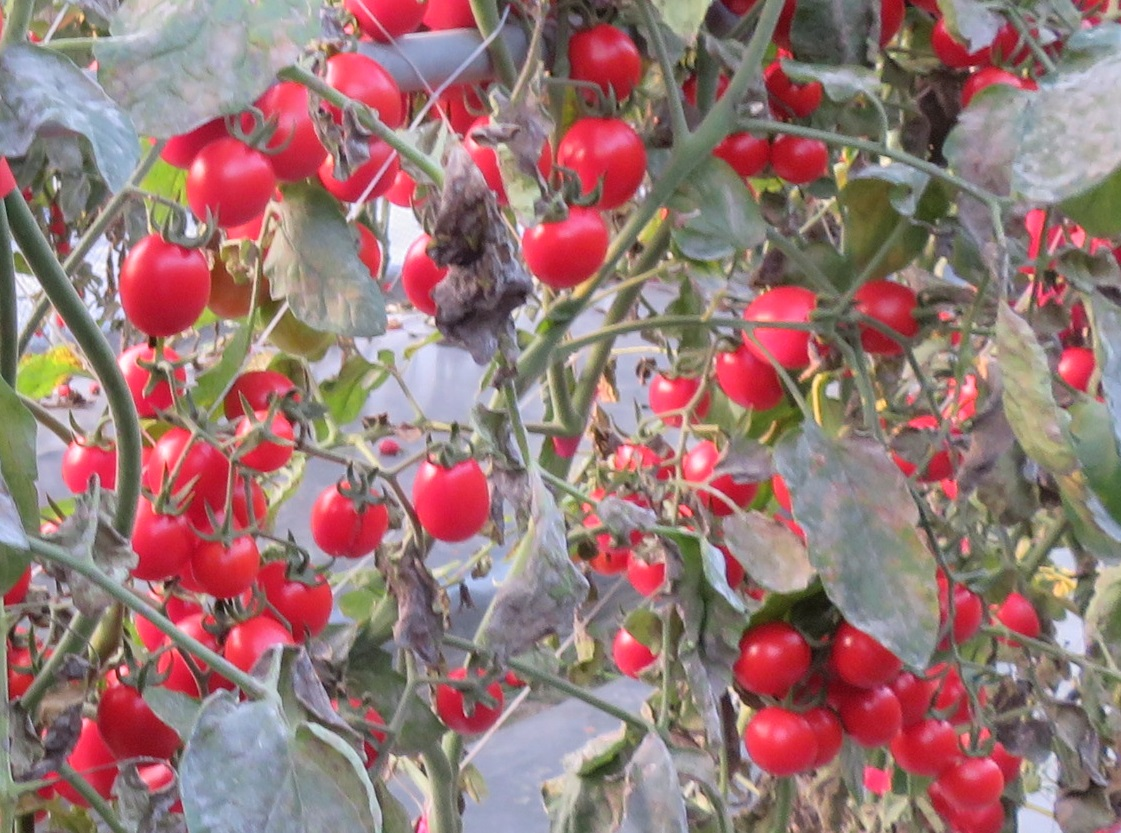red: (112, 236, 212, 342), (554, 118, 648, 205), (516, 202, 610, 287), (245, 559, 343, 640), (142, 427, 234, 513), (255, 88, 340, 180), (414, 455, 501, 544), (741, 286, 830, 365), (189, 143, 267, 229), (313, 478, 394, 559), (95, 685, 183, 759), (322, 55, 407, 130), (570, 21, 644, 105), (52, 433, 130, 501), (740, 624, 815, 694), (190, 522, 258, 599), (117, 341, 189, 412), (434, 667, 507, 735), (742, 711, 816, 777), (230, 409, 306, 472), (401, 234, 457, 319), (215, 617, 295, 676), (712, 342, 783, 407), (639, 367, 712, 430), (921, 576, 986, 645), (124, 506, 189, 574), (833, 628, 901, 687), (839, 687, 903, 746), (945, 747, 1001, 809), (903, 718, 954, 777), (712, 131, 769, 180), (771, 139, 826, 183)
